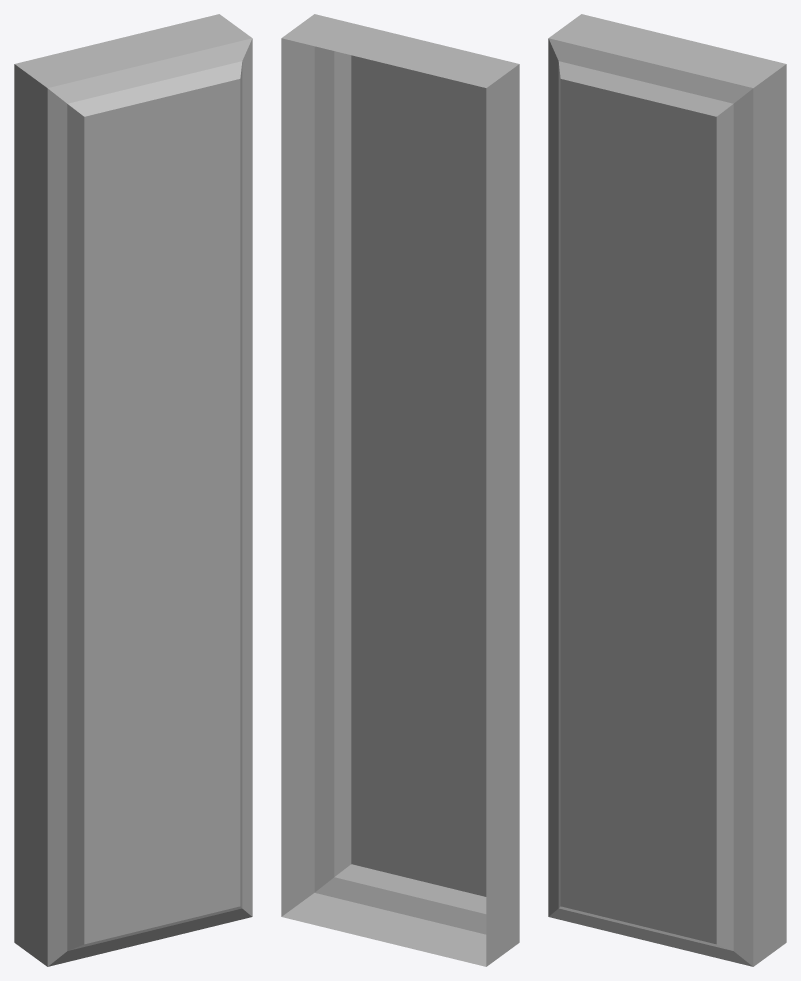
The model's file is KF_SM_Panel4.fbx.
3 renders of one model, left to right at view 1: azimuth 30°, elevation 25°; view 2: azimuth 150°, elevation 25°; view 3: azimuth 330°, elevation 25°, orthographic.
Parts seen in each view (by area): view 1: KF_SM_Panel4; view 2: KF_SM_Panel4; view 3: KF_SM_Panel4.
Boxes of the visible parts, x1=… form: KF_SM_Panel4: x1=14, y1=14, x2=252, y2=966; KF_SM_Panel4: x1=281, y1=14, x2=519, y2=966; KF_SM_Panel4: x1=548, y1=14, x2=786, y2=966.
Bounding box in the file's own units: 26.11 × 107 × 10.02.
